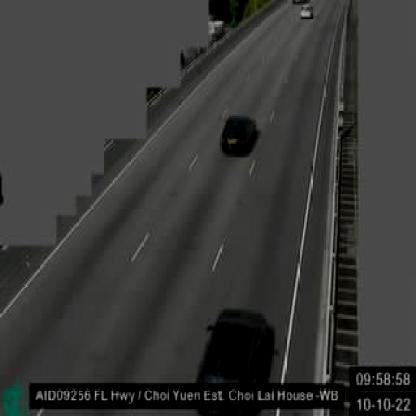Car: (194, 309, 274, 386), (220, 115, 260, 156), (301, 4, 313, 18)
